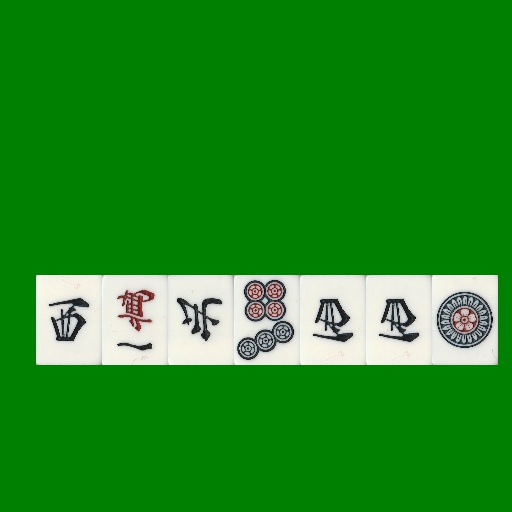1m: (102, 275, 168, 365)
1p: (432, 275, 498, 365)
7p: (234, 275, 300, 365)
north: (168, 275, 234, 365)
west: (36, 275, 102, 365), (300, 275, 366, 365), (366, 275, 432, 365)
